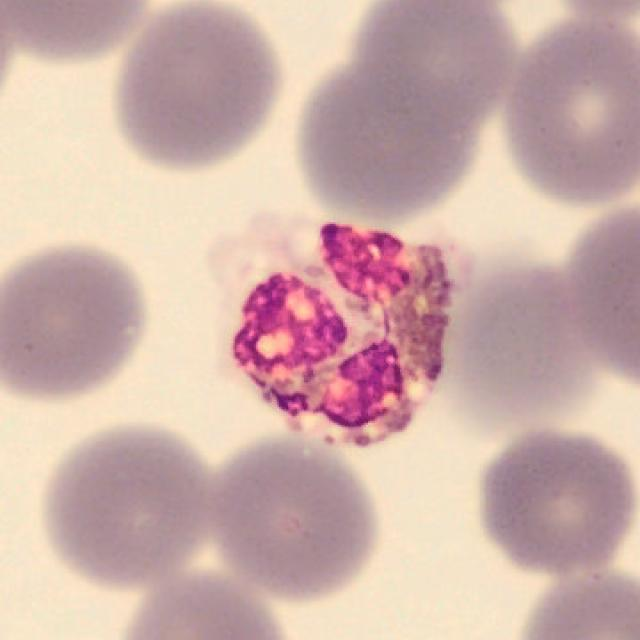Eosinofilo: (210, 213, 473, 450)
